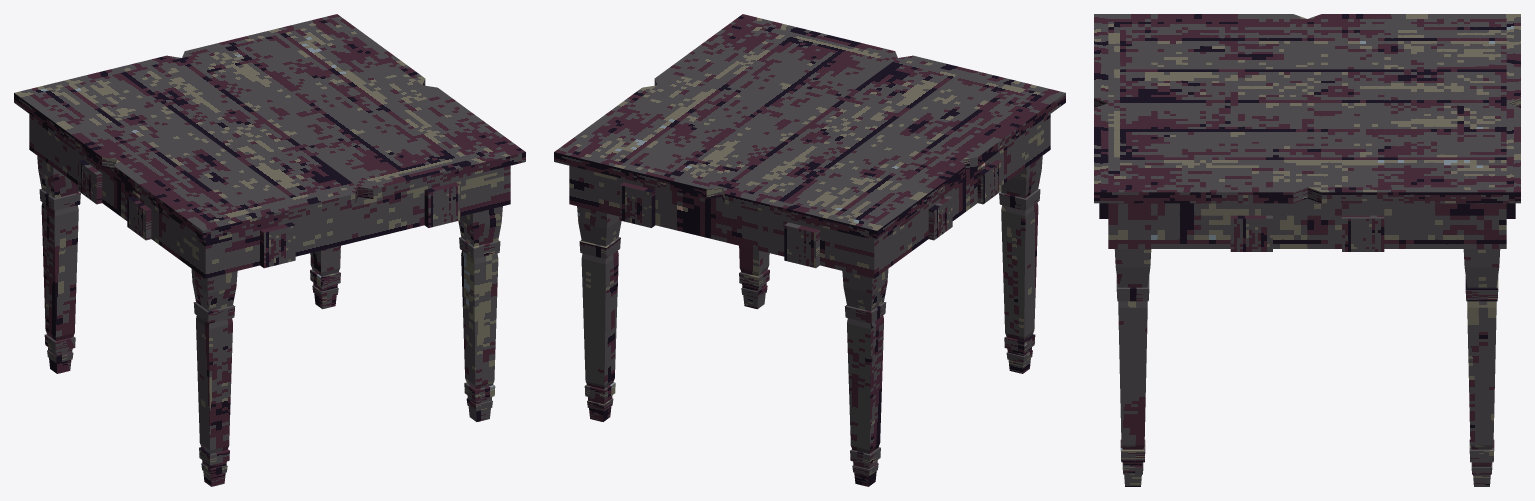
File: table.gltf
3 renders of one model, left to right at view 1: azimuth 30°, elevation 25°; view 2: azimuth 150°, elevation 25°; view 3: azimuth 270°, elevation 25°, orthographic. The views are drawn at different scales.
Parts seen in each view (by area): view 1: table; view 2: table; view 3: table.
Part boxes in pixels (<box>): table: <box>14,14,525,486</box>; table: <box>554,14,1065,486</box>; table: <box>1094,14,1520,486</box>.
Bounding box in the file's own units: 1.28 × 1.03 × 1.29.
1 material, 1 textured.
